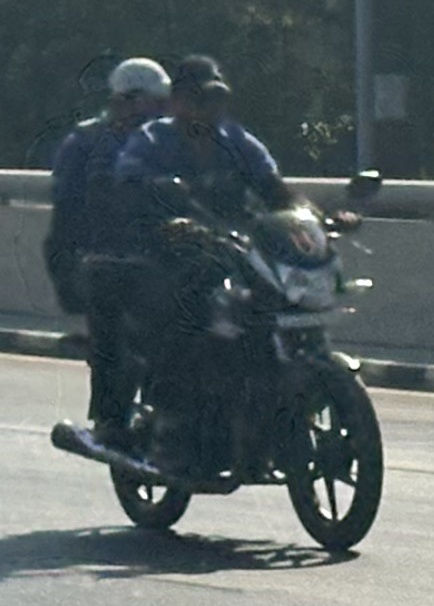BikeWithRider: (31, 43, 396, 558)
Helmet: (97, 51, 178, 130)
NoHelmet: (161, 48, 239, 129)
